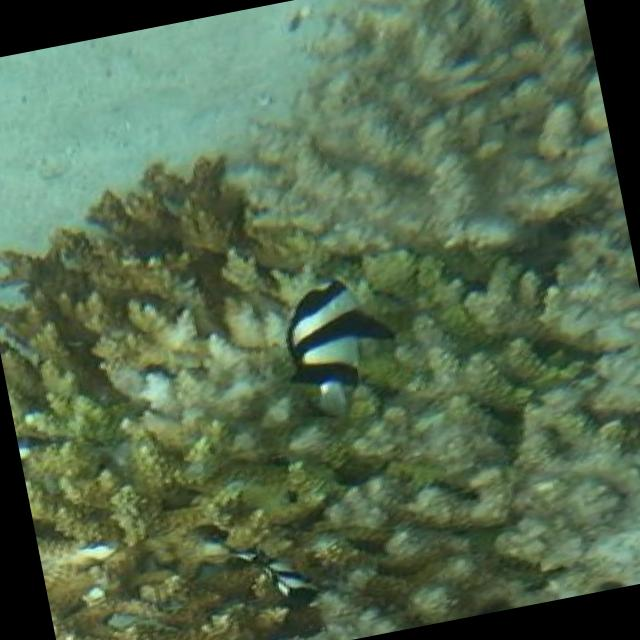ThreeStripedDamselfish: (291, 277, 398, 414)
